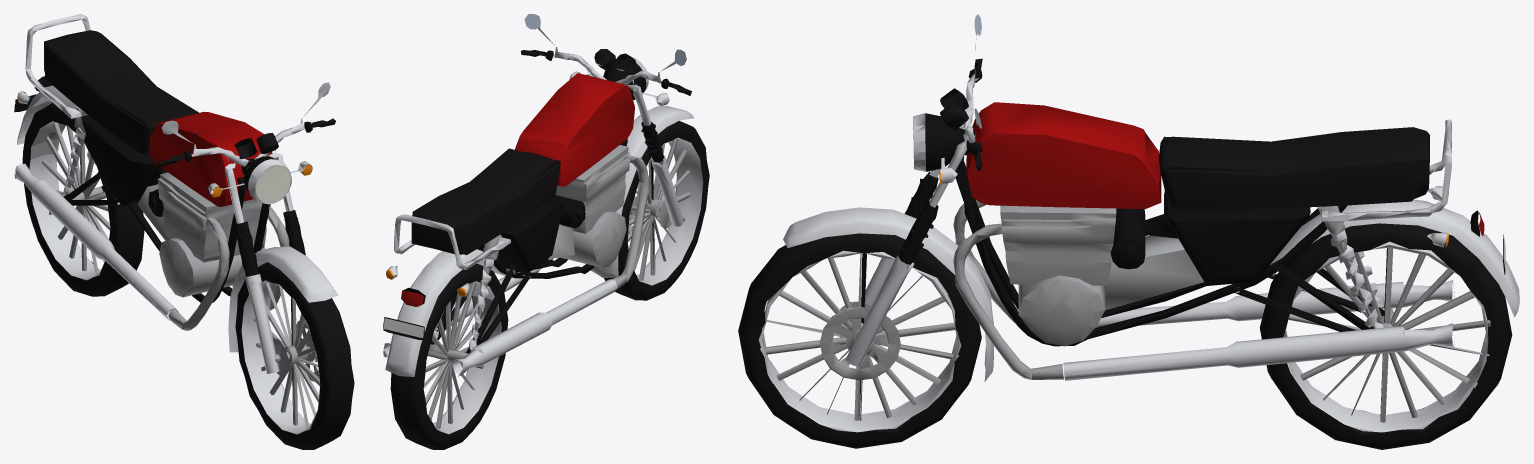
File: MotoCentrale_LOD.obj
3 renders of one model, left to right at view 1: azimuth 30°, elevation 25°; view 2: azimuth 150°, elevation 25°; view 3: azimuth 270°, elevation 25°, orthographic. The views are drawn at different scales.
Parts seen in each view (by area): view 1: Caisse_Corps_metalxengine, Caisse_Corps_leather, RoueAV_Corps_tire, Direction_Corps_metalxsilver, Caisse_Corps_metalxsilver, Caisse_Corps_metalxblack, Caisse_Peinture_metalxred, RoueAR_Corps_tire, RoueAV_Corps_metalxsilver, RoueAR_Corps_metalxengine, RoueAV_Corps_metalxengine, RoueAR_Corps_metalxsilver (+5 smaller); view 2: Caisse_Corps_metalxsilver, Caisse_Corps_leather, Caisse_Peinture_metalxred, Caisse_Corps_metalxengine, Caisse_Corps_metalxblack, RoueAR_Corps_tire, Direction_Corps_metalxsilver, RoueAR_Corps_metalxengine, RoueAV_Corps_tire, RoueAV_Corps_metalxsilver, RoueAR_Corps_metalxsilver, RoueAV_Corps_metalxengine (+6 smaller); view 3: Caisse_Corps_metalxengine, Caisse_Corps_metalxsilver, Caisse_Corps_leather, Caisse_Corps_metalxblack, Caisse_Peinture_metalxred, RoueAR_Corps_tire, RoueAV_Corps_tire, Direction_Corps_metalxsilver, RoueAR_Corps_metalxengine, RoueAV_Corps_metalxengine, RoueAV_Corps_metalxsilver, RoueAR_Corps_metalxsilver (+2 smaller).
Boxes of the visible parts, box(x1,y1,x2,y2) form: Caisse_Corps_metalxengine: box(14, 106, 289, 330); Caisse_Corps_leather: box(44, 30, 198, 154); RoueAV_Corps_tire: box(235, 262, 354, 449); Direction_Corps_metalxsilver: box(161, 82, 338, 373); Caisse_Corps_metalxsilver: box(15, 14, 233, 320); Caisse_Corps_metalxblack: box(36, 76, 269, 302); Caisse_Peinture_metalxred: box(148, 112, 272, 206); RoueAR_Corps_tire: box(22, 103, 144, 296); RoueAV_Corps_metalxsilver: box(241, 280, 319, 434); RoueAR_Corps_metalxengine: box(30, 122, 110, 274); RoueAV_Corps_metalxengine: box(254, 282, 320, 428); RoueAR_Corps_metalxsilver: box(29, 121, 103, 280); Caisse_Corps_metalxsilver: box(384, 214, 617, 376); Caisse_Corps_leather: box(411, 148, 560, 254); Caisse_Peinture_metalxred: box(514, 73, 634, 186); Caisse_Corps_metalxengine: box(383, 145, 648, 375); Caisse_Corps_metalxblack: box(402, 138, 627, 353); RoueAR_Corps_tire: box(390, 263, 508, 449); Direction_Corps_metalxsilver: box(524, 14, 693, 277); RoueAR_Corps_metalxengine: box(423, 282, 500, 429); RoueAV_Corps_tire: box(604, 121, 709, 300); RoueAV_Corps_metalxsilver: box(627, 137, 703, 285); RoueAR_Corps_metalxsilver: box(433, 281, 501, 434); RoueAV_Corps_metalxengine: box(627, 139, 690, 282); Caisse_Corps_metalxengine: box(953, 200, 1454, 379); Caisse_Corps_metalxsilver: box(1063, 119, 1519, 380); Caisse_Corps_leather: box(1158, 127, 1429, 208); Caisse_Corps_metalxblack: box(955, 156, 1479, 346); Caisse_Peinture_metalxred: box(966, 102, 1161, 208); RoueAR_Corps_tire: box(1259, 223, 1512, 449); RoueAV_Corps_tire: box(738, 233, 981, 448); Direction_Corps_metalxsilver: box(783, 14, 993, 381); RoueAR_Corps_metalxengine: box(1284, 247, 1490, 422); RoueAV_Corps_metalxengine: box(760, 253, 959, 420); RoueAV_Corps_metalxsilver: box(758, 250, 961, 432); RoueAR_Corps_metalxsilver: box(1284, 241, 1488, 432).
Size of the model in its own units: 0.6462 by 1.08 by 1.99.
